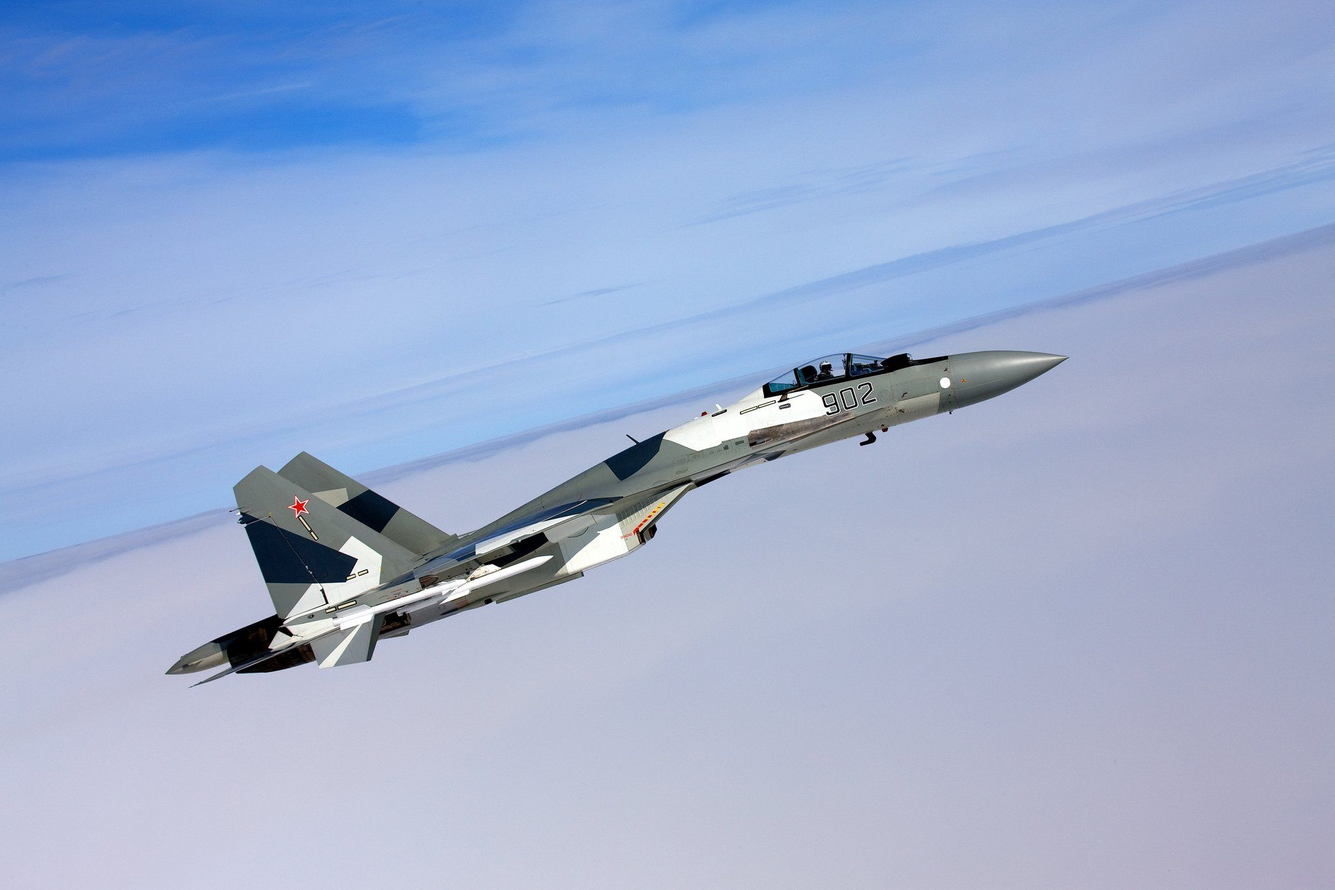Su35: (160, 327, 1088, 697)
